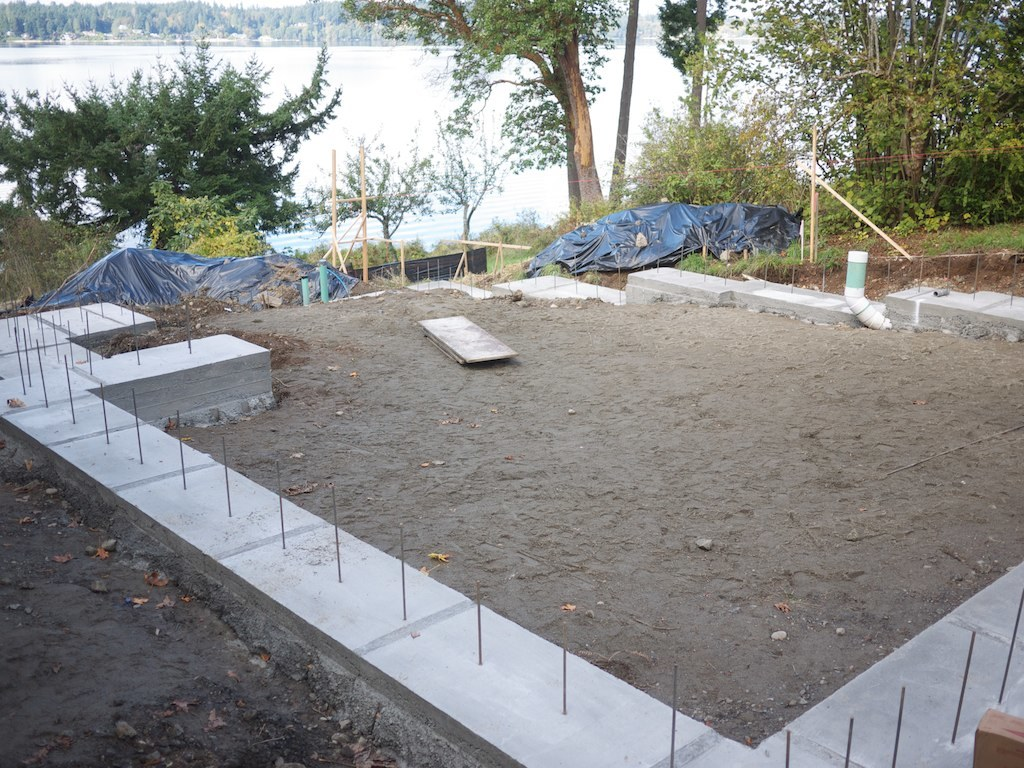Tree: (0, 0, 1024, 302)
